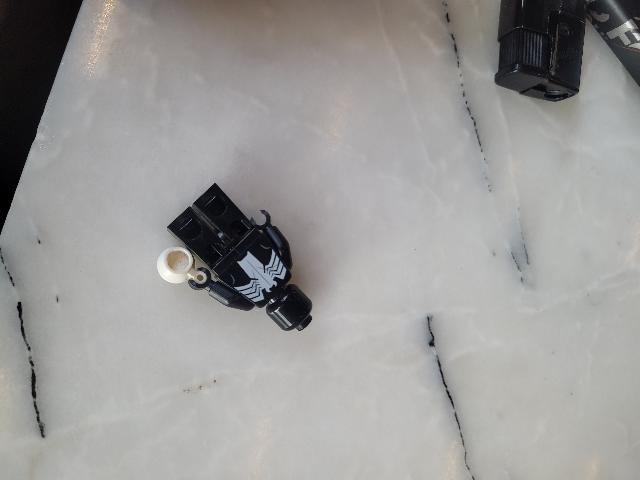Plastik: (154, 184, 317, 339), (489, 0, 640, 113)
